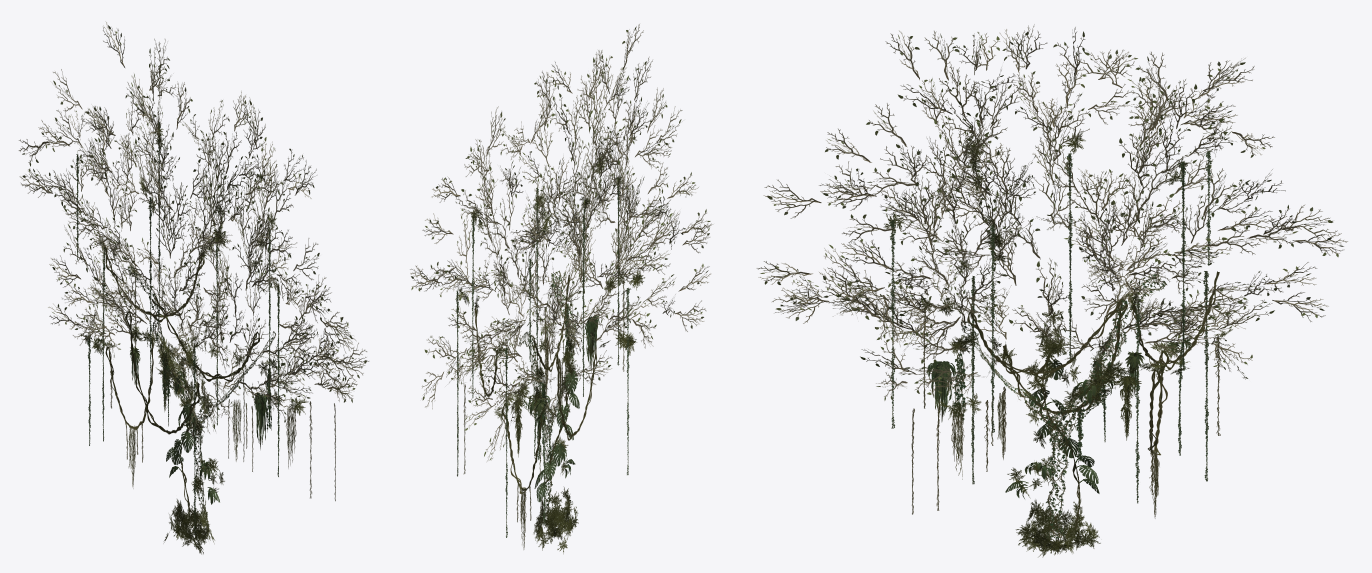
File: e554ccfa_2k.glb
3 renders of one model, left to right at view 1: azimuth 30°, elevation 25°; view 2: azimuth 150°, elevation 25°; view 3: azimuth 270°, elevation 25°, orthographic. The views are drawn at different scales.
Parts seen in each view (by area): view 1: TreeGen_ClusterB2_0, TreeGen_VinesB_0; view 2: TreeGen_ClusterB2_0, TreeGen_VinesB_0; view 3: TreeGen_ClusterB2_0, TreeGen_VinesB_0.
Part boxes in pixels (x1,y1,x2,y2): TreeGen_ClusterB2_0: (18, 21, 368, 434); TreeGen_VinesB_0: (76, 120, 335, 554); TreeGen_ClusterB2_0: (410, 24, 712, 461); TreeGen_VinesB_0: (455, 151, 644, 553); TreeGen_ClusterB2_0: (756, 24, 1347, 400); TreeGen_VinesB_0: (883, 132, 1232, 557).
Size of the model in its own units: 4.07 by 10.01 by 10.37.
Materials: 2 (2 with a texture image).
